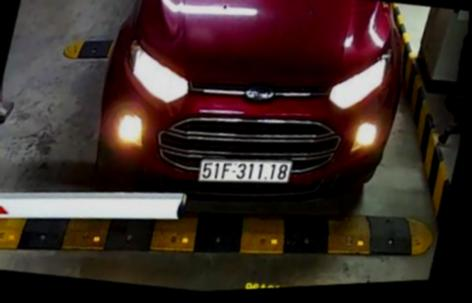License_Plate: (185, 141, 300, 201)
